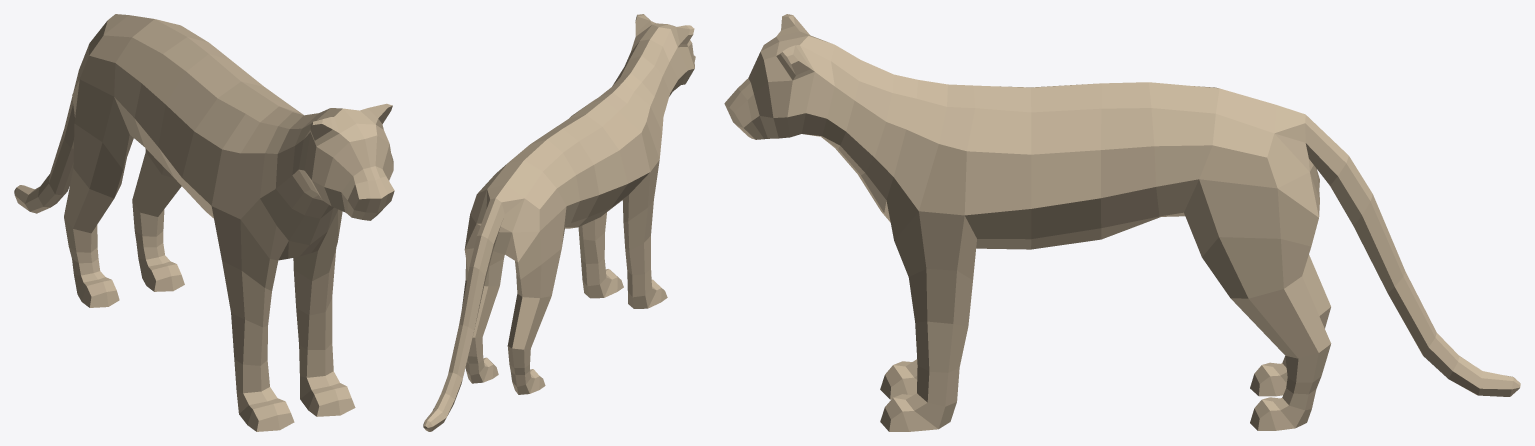
File: xiezhi.glb
3 renders of one model, left to right at view 1: azimuth 30°, elevation 25°; view 2: azimuth 150°, elevation 25°; view 3: azimuth 270°, elevation 25°, orthographic. The views are drawn at different scales.
Visible parts, largest first — view 1: Jaguar_mesh; view 2: Jaguar_mesh; view 3: Jaguar_mesh.
Boxes of the visible parts, bbox=[...] form: Jaguar_mesh: bbox=[14, 14, 394, 431]; Jaguar_mesh: bbox=[423, 14, 695, 431]; Jaguar_mesh: bbox=[724, 14, 1520, 431].
Size of the model in its own units: 2.51 by 6.84 by 13.22.
